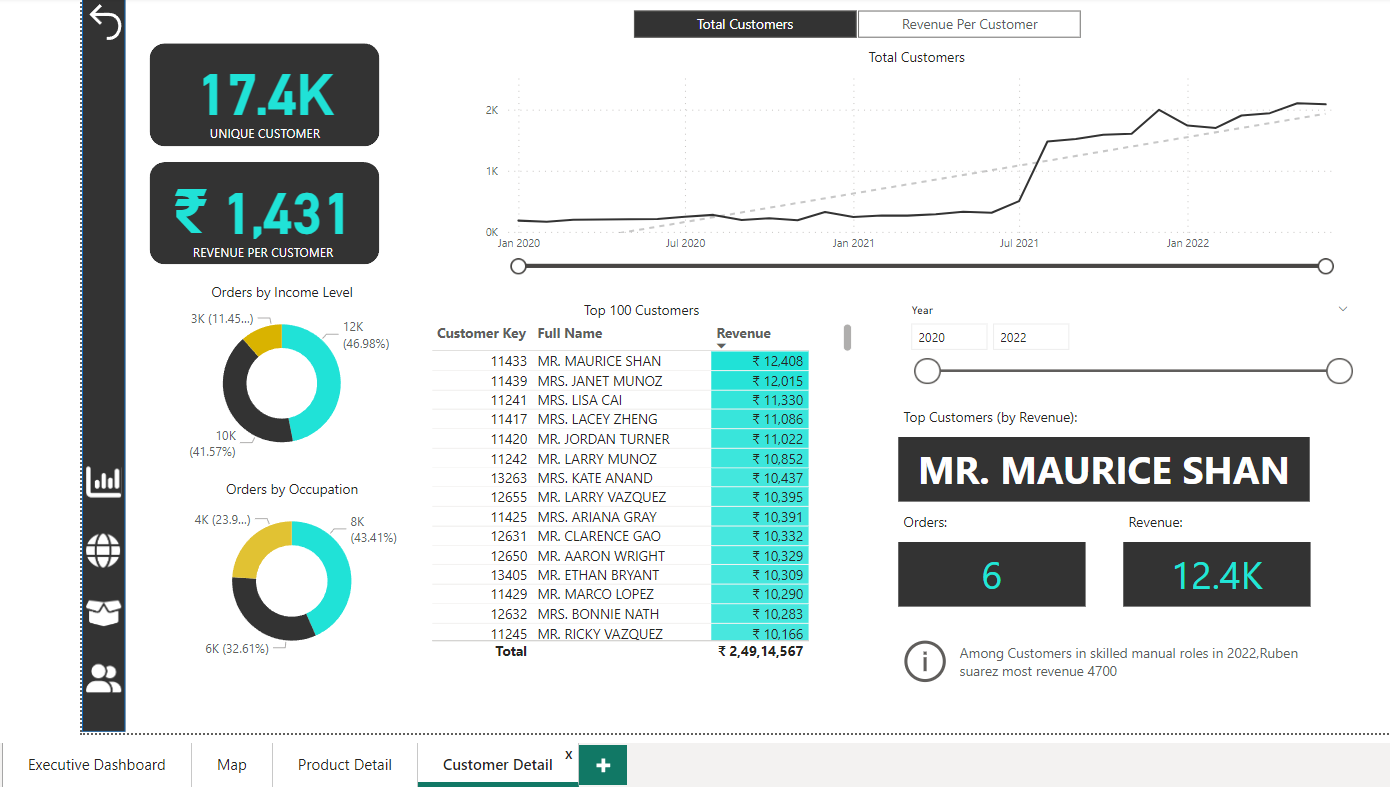

Layout of this report page (visuals, bound fields, positions):
{"tool":"powerbi","page":{"name":"Customer Detail","canvas":[1280,720],"ordinal":3},"visuals":[{"type":"shape","box":[0,0,42.5,718.8],"z":0},{"type":"actionButton","box":[0,450,42.5,48.8],"z":1000,"group":"g1"},{"type":"shape","box":[66.4,44.7,225.1,101],"z":1000},{"type":"actionButton","box":[0,521.2,42.5,41.2],"z":2000,"group":"g1"},{"type":"shape","box":[65.6,161.3,224.9,100.2],"z":2000},{"type":"card","fields":{"Values":["Measure Table.Average Revenue Per Customer"]},"box":[64.9,116.9,225.1,190.4],"z":3000},{"type":"actionButton","box":[0,578.3,42.5,48.8],"z":3000,"group":"g1"},{"type":"card","fields":{"Values":["Measure Table.Total Customers"]},"box":[66.2,1.2,226.2,190],"z":4000},{"type":"actionButton","box":[0,642.5,42.5,48.8],"z":4000,"group":"g1"},{"type":"lineChart","fields":{"Y":["Measure Table.Total Customers"],"Category":["Calendar Lookup.Date Hierarchy.Start of Year","Calendar Lookup.Date Hierarchy.Start of Month","Calendar Lookup.Date Hierarchy.Start of Week","Calendar Lookup.Date Hierarchy.Date"]},"box":[390,48.8,852.5,225],"z":5000},{"type":"donutChart","title":" Orders by Income Level","fields":{"Category":["Customer Lookup.Income Level"],"Y":["Measure Table.Total Orders"]},"box":[66,278.7,259.2,180.9],"z":6000},{"type":"donutChart","title":" Orders by Occupation","fields":{"Y":["Measure Table.Total Orders"],"Category":["Customer Lookup.Occupation"]},"box":[67.5,471.2,276.2,181.2],"z":7000},{"type":"tableEx","title":"Top 100 Customers","fields":{"Values":["Customer Lookup.CustomerKey","Customer Lookup.Customer Full Name(CC)","Measure Table.Total Revenue"]},"box":[336.2,297,421.7,355.7],"z":8000},{"type":"card","fields":{"Values":["Customer Lookup.Customer Full Name(Customer Detail)"]},"box":[798.5,430.6,402.5,63.5],"z":9000},{"type":"card","fields":{"Values":["Measure Table.Total Orders(Customers Details)"]},"box":[798.5,533,183.2,63.5],"z":10000},{"type":"card","fields":{"Values":["Measure Table.Total Revenue(Customer detail)"]},"box":[1017.8,533,183.2,63.5],"z":11000},{"type":"textbox","box":[798.5,396,202,34.6],"z":12000},{"type":"textbox","box":[1017.8,498.4,202,34.6],"z":13000},{"type":"textbox","box":[798.5,498.4,202,34.6],"z":14000},{"type":"slicer","fields":{"Values":["Calendar Lookup.Year"]},"box":[798.8,295,452.5,101.2],"z":15000},{"type":"actionButton","box":[798.8,623.8,402.5,52.5],"z":16000},{"type":"actionButton","box":[0,1.2,51.2,46.2],"z":17000},{"type":"group","id":"g1","title":"Navigations Buttons","box":[0,450,42.5,241.2],"z":18000},{"type":"slicer","fields":{"Values":["Customer Metric Section.Customer Metric Section"]},"box":[513.8,6.2,487.5,37.5],"z":18501}]}

Visuals, with their boxes on the page's 1280x720 design canvas (x1, y1, x2, y2). These are canvas units, not pixel positions in the 1390x787 screenshot, which may show the page scaled, cropped or inside an application window:
shape: box=[0, 0, 42, 719]
actionButton: box=[0, 450, 42, 499]
shape: box=[66, 45, 292, 146]
actionButton: box=[0, 521, 42, 562]
shape: box=[66, 161, 290, 262]
card - Measure Table.Average Revenue Per Customer: box=[65, 117, 290, 307]
actionButton: box=[0, 578, 42, 627]
card - Measure Table.Total Customers: box=[66, 1, 292, 191]
actionButton: box=[0, 642, 42, 691]
lineChart - Measure Table.Total Customers x Calendar Lookup.Date Hierarchy.Start of Year: box=[390, 49, 1242, 274]
" Orders by Income Level" donutChart: box=[66, 279, 325, 460]
" Orders by Occupation" donutChart: box=[68, 471, 344, 652]
"Top 100 Customers" tableEx: box=[336, 297, 758, 653]
card - Customer Lookup.Customer Full Name(Customer Detail): box=[798, 431, 1201, 494]
card - Measure Table.Total Orders(Customers Details): box=[798, 533, 982, 596]
card - Measure Table.Total Revenue(Customer detail): box=[1018, 533, 1201, 596]
textbox: box=[798, 396, 1000, 431]
textbox: box=[1018, 498, 1220, 533]
textbox: box=[798, 498, 1000, 533]
slicer - Calendar Lookup.Year: box=[799, 295, 1251, 396]
actionButton: box=[799, 624, 1201, 676]
actionButton: box=[0, 1, 51, 47]
"Navigations Buttons" group: box=[0, 450, 42, 691]
slicer - Customer Metric Section.Customer Metric Section: box=[514, 6, 1001, 44]
